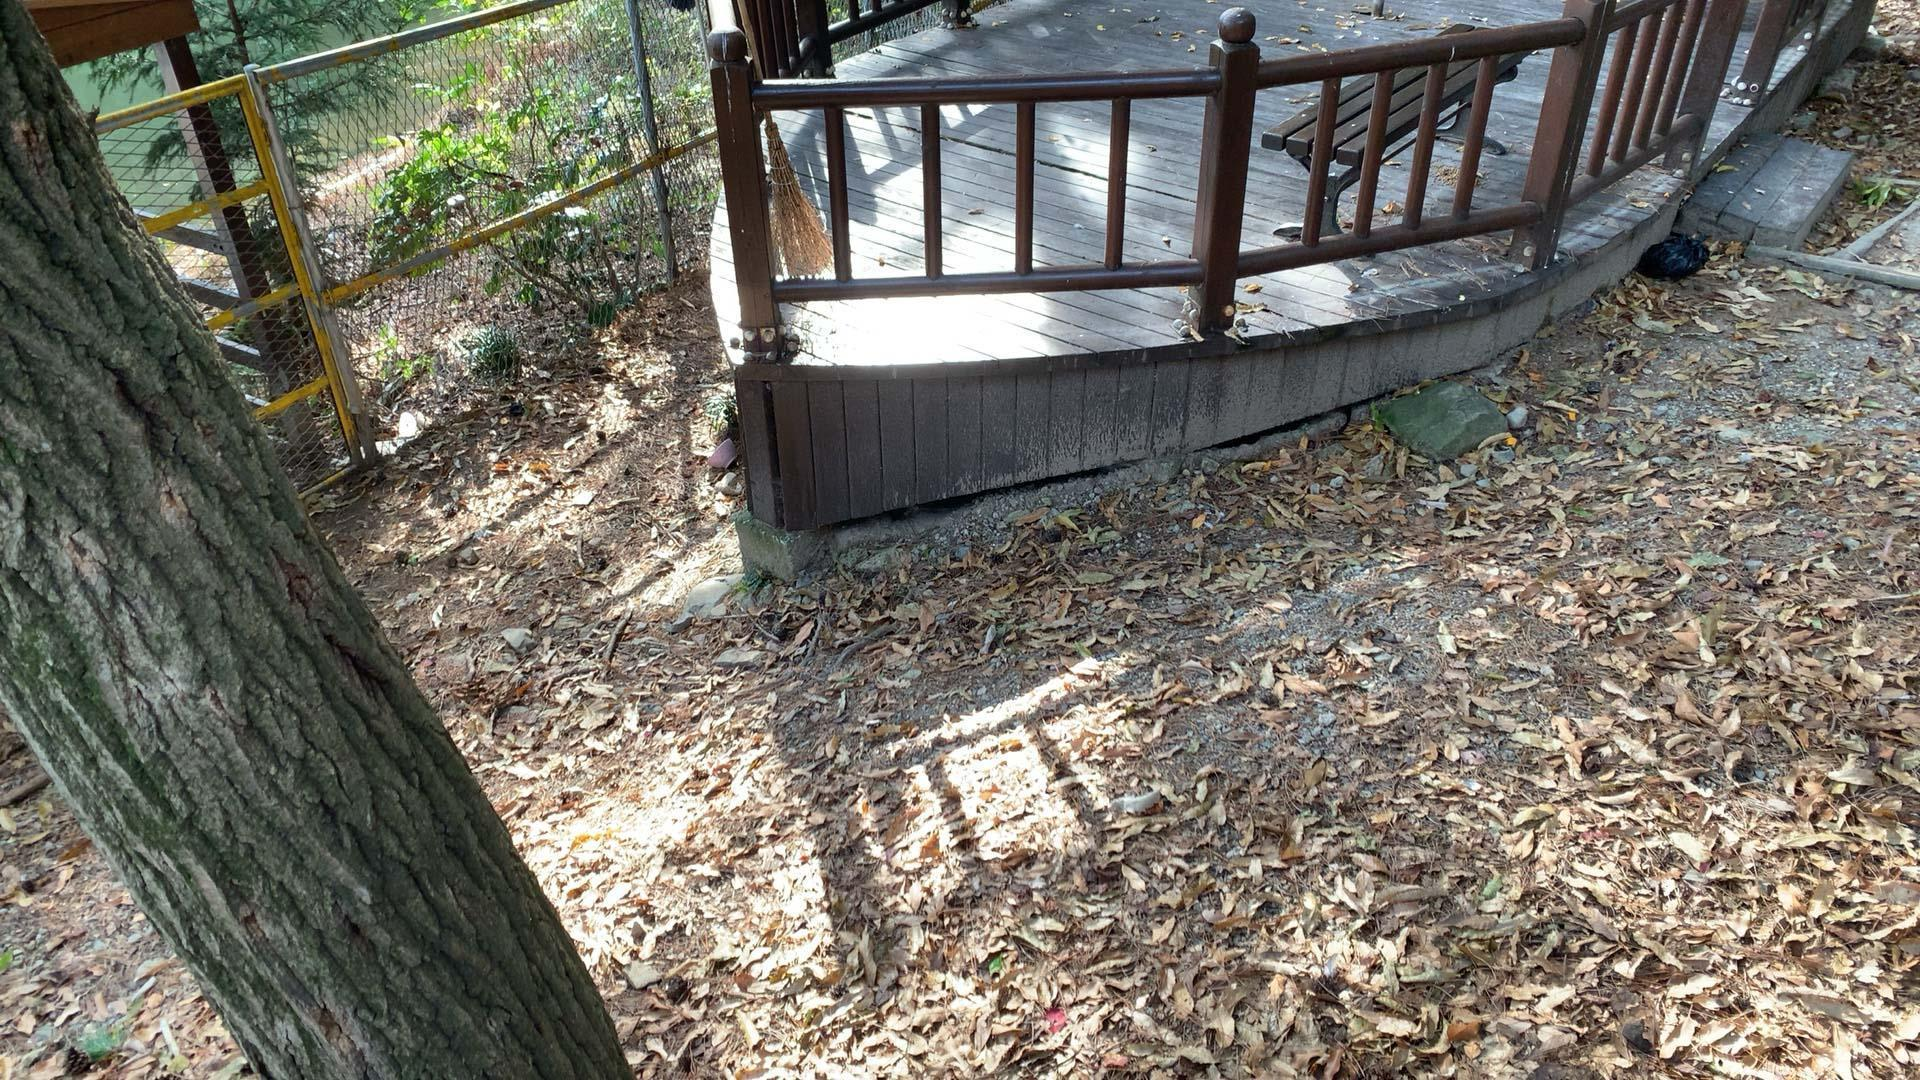black_bag: (1630, 225, 1712, 282)
